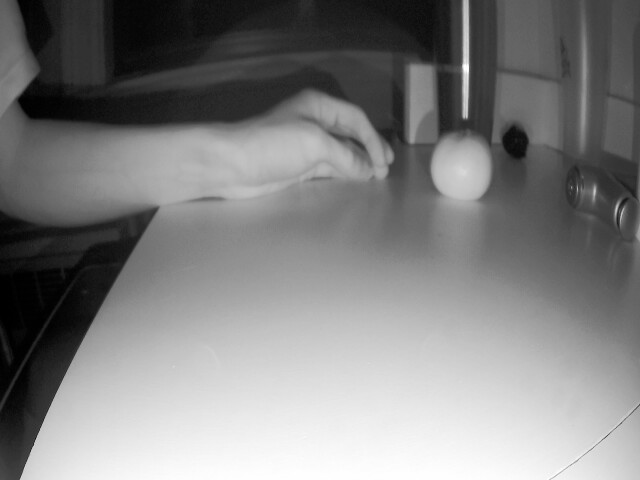silver: (500, 116, 532, 164)
